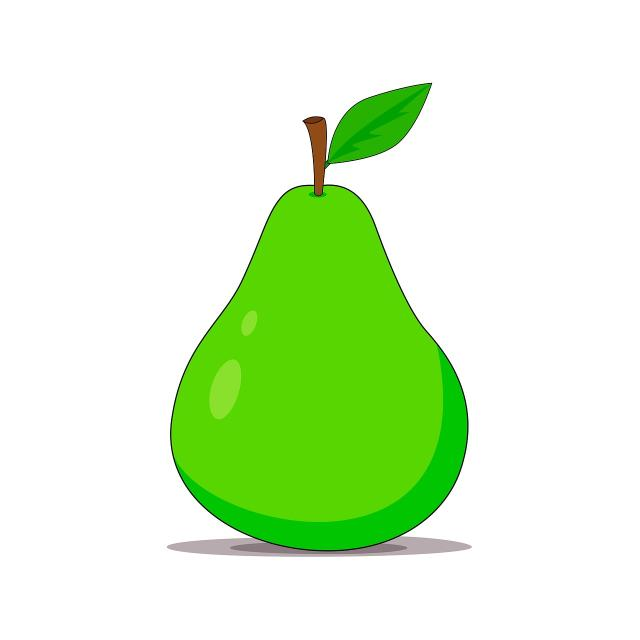pera: (147, 59, 506, 569)
